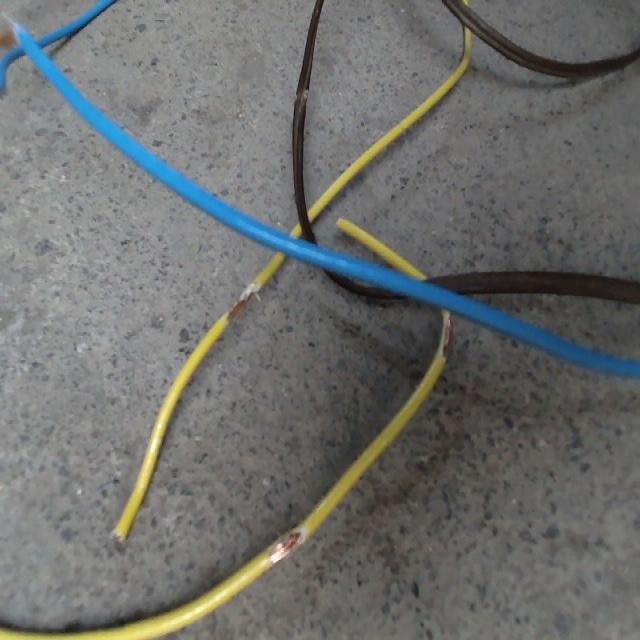-: (267, 526, 308, 566), (226, 283, 257, 320), (439, 306, 453, 362)
